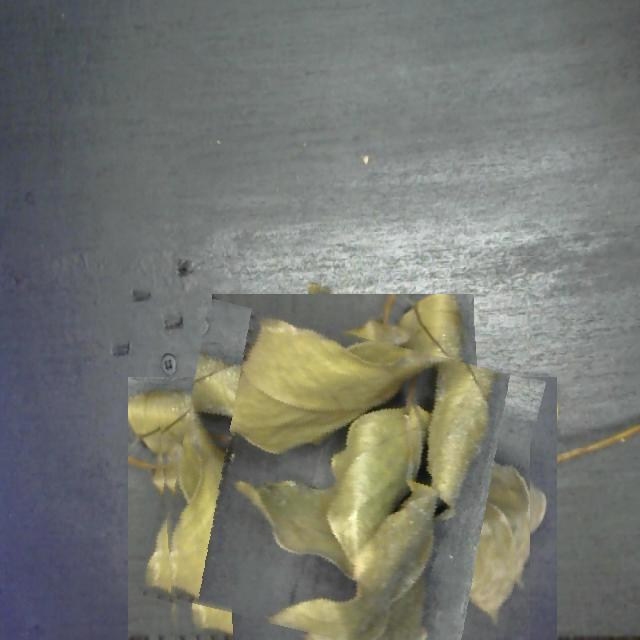biodegradable: (153, 316, 530, 640)
